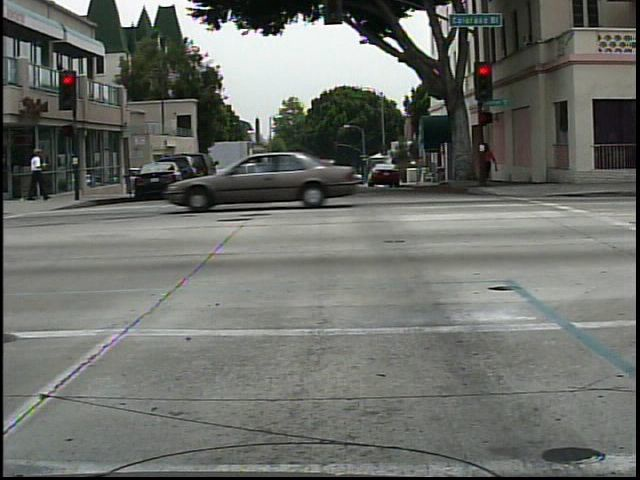person: (24, 142, 52, 207), (472, 140, 502, 193)
